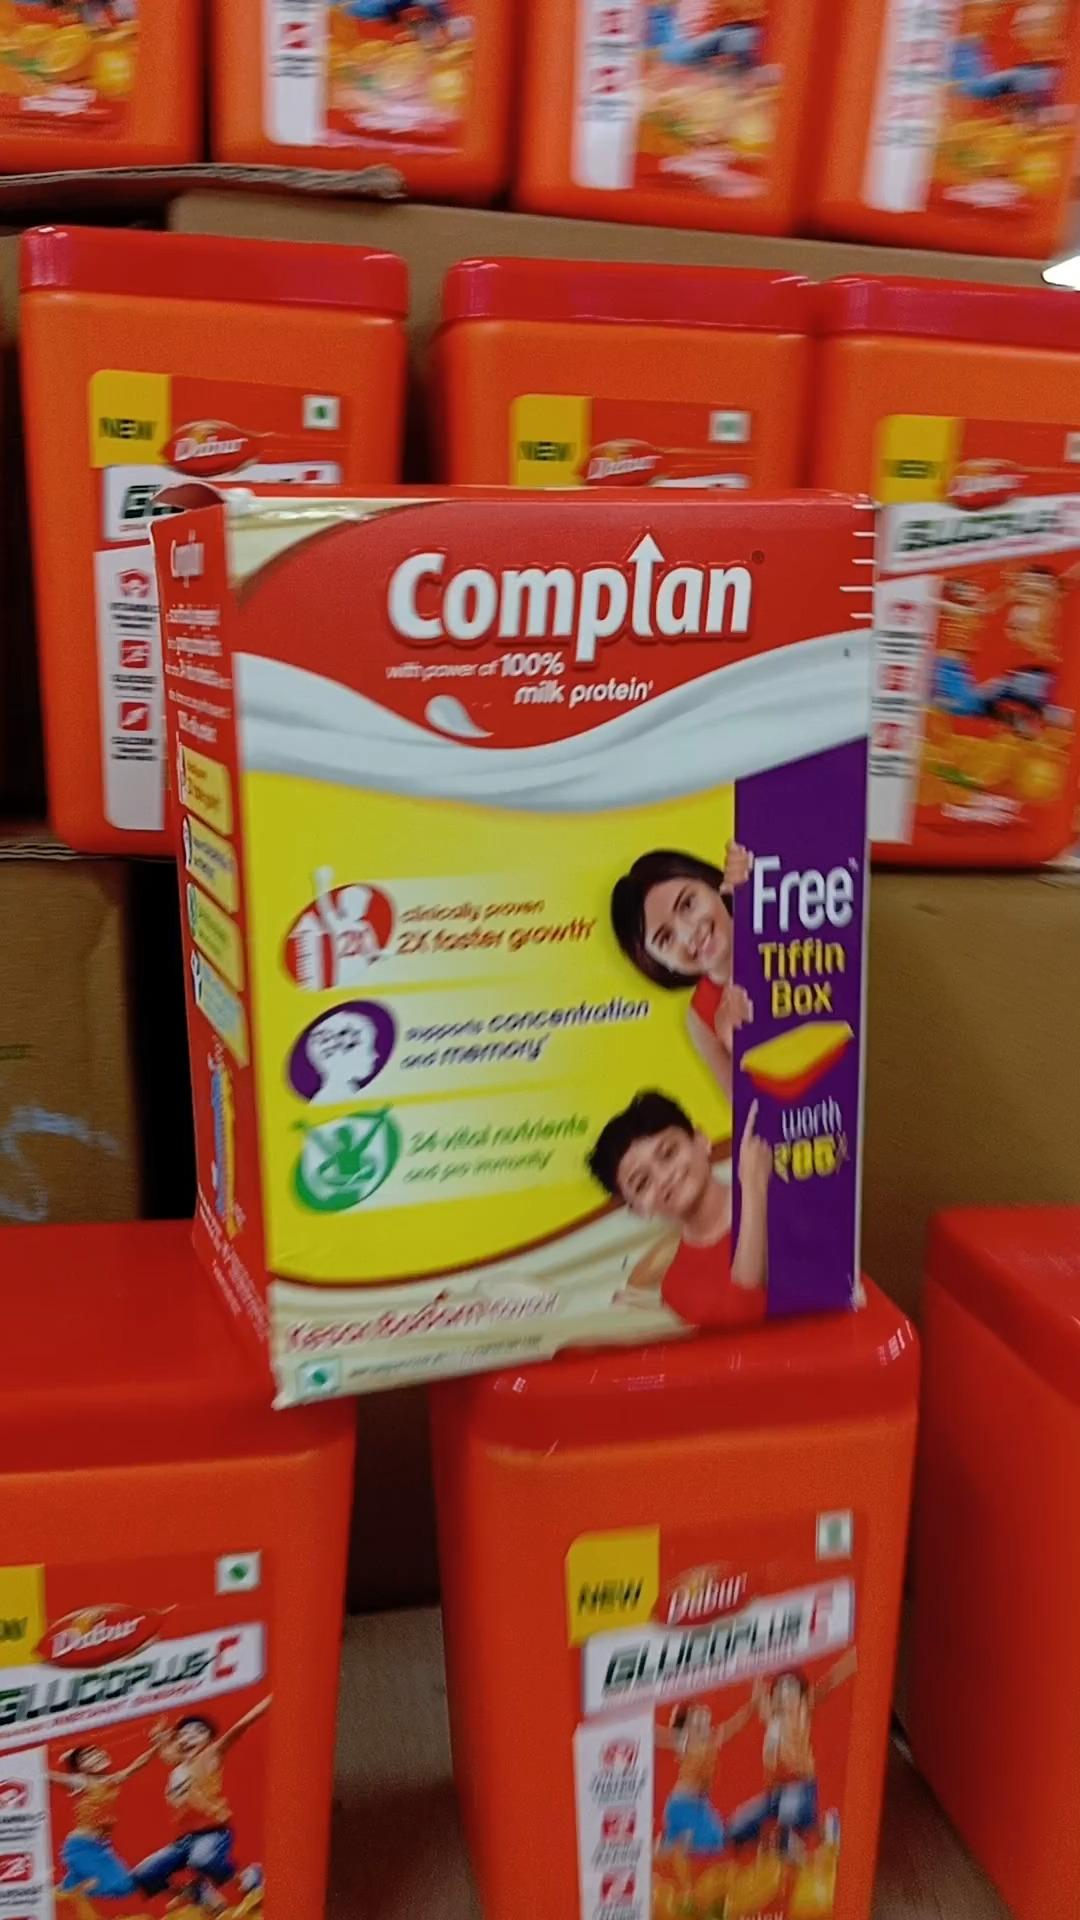COMPLAN_KESAR_BADAM_500_GMS_PACK: (228, 496, 865, 1370)
